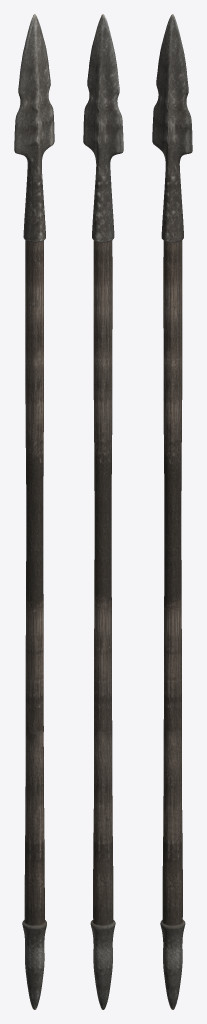
The model's file is skeleton_spear.glb.
The picture shows the model from 3 angles, left to right: view 1: azimuth 30°, elevation 25°; view 2: azimuth 150°, elevation 25°; view 3: azimuth 330°, elevation 25°; orthographic projection.
Visible parts, largest first — view 1: Mesh_0; view 2: Mesh_0; view 3: Mesh_0.
Part boxes in pixels (x1,y1,x2,y2): Mesh_0: [14, 14, 54, 1009]; Mesh_0: [83, 14, 123, 1009]; Mesh_0: [152, 14, 192, 1009].
Bounding box in the file's own units: 0.0803 × 1.92 × 0.0431.
1 material, 1 textured.
